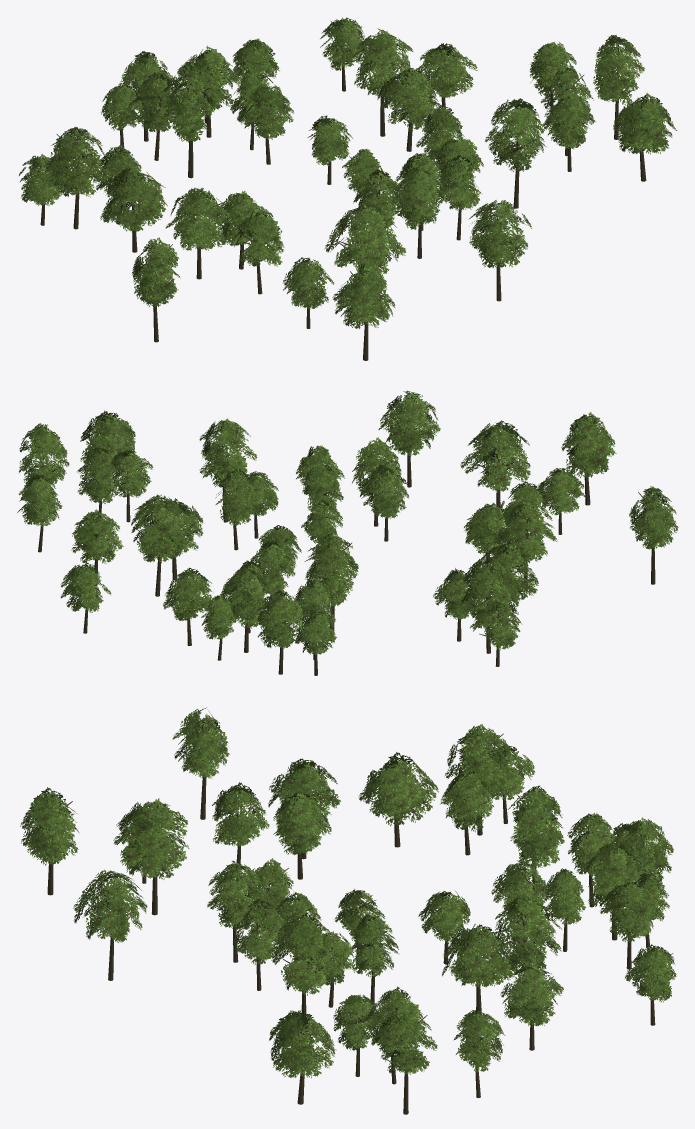
File: TRB8-FOREST-CHUNK-0-3.glb
3 renders of one model, top to bottom at view 1: azimuth 30°, elevation 25°; view 2: azimuth 150°, elevation 25°; view 3: azimuth 270°, elevation 25°, orthographic. The views are drawn at different scales.
Parts seen in each view (by area): view 1: TRB8-FOREST-CHUNK-0-3; view 2: TRB8-FOREST-CHUNK-0-3; view 3: TRB8-FOREST-CHUNK-0-3.
Boxes of the visible parts, box(x1,y1,x2,y2) form: TRB8-FOREST-CHUNK-0-3: box(19, 17, 676, 360); TRB8-FOREST-CHUNK-0-3: box(17, 390, 678, 675); TRB8-FOREST-CHUNK-0-3: box(20, 707, 676, 1114).
Bounding box in the file's own units: 33.99 × 6.68 × 29.84.
2 materials, 1 textured.
